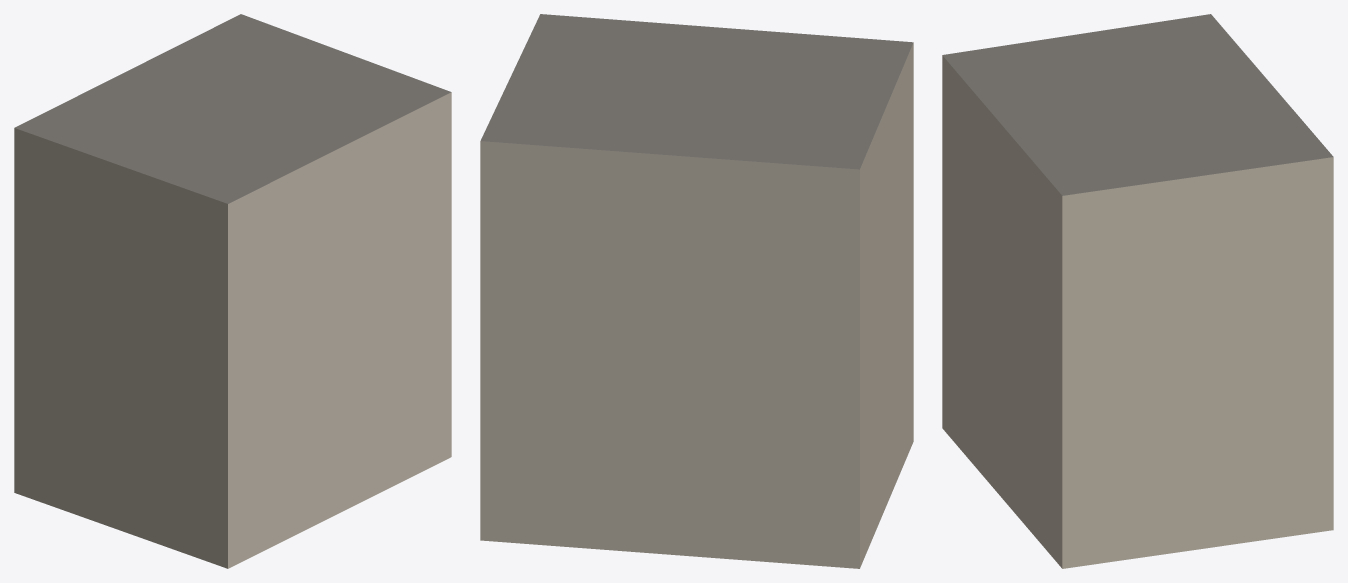
3 renders of one model, left to right at view 1: azimuth 30°, elevation 25°; view 2: azimuth 150°, elevation 25°; view 3: azimuth 270°, elevation 25°, orthographic. The views are drawn at different scales.
Visible parts, largest first — view 1: HP-w1198550838; view 2: HP-w1198550838; view 3: HP-w1198550838.
Boxes of the visible parts, bbox=[...] form: HP-w1198550838: bbox=[14, 14, 451, 568]; HP-w1198550838: bbox=[480, 14, 913, 568]; HP-w1198550838: bbox=[942, 14, 1333, 568].
Bounding box in the file's own units: 18.82 × 18 × 17.12.
